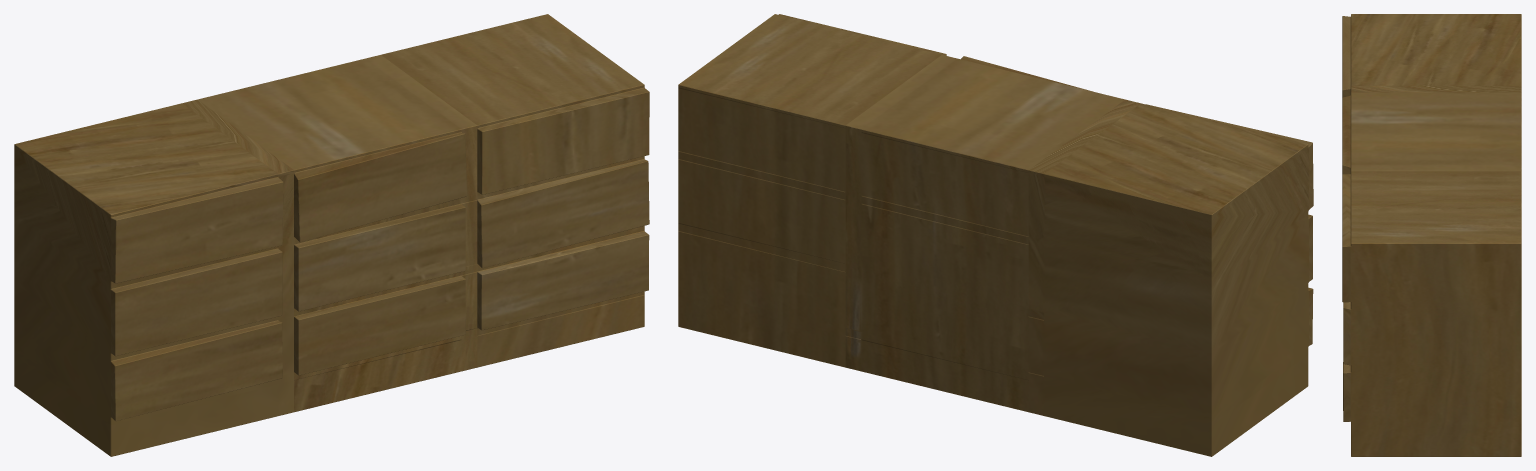
Rendered from Cabinet3.fbx.
3 views of the same model, side by side, from view 1: azimuth 30°, elevation 25°; view 2: azimuth 150°, elevation 25°; view 3: azimuth 270°, elevation 25° (orthographic). The views are drawn at different scales.
Visible parts, largest first — view 1: Cabinet3; view 2: Cabinet3; view 3: Cabinet3.
Part boxes in pixels (x1,y1,x2,y2): Cabinet3: [14, 14, 649, 456]; Cabinet3: [678, 14, 1313, 456]; Cabinet3: [1342, 14, 1521, 456].
Size of the model in its own units: 701 by 303 by 230.
